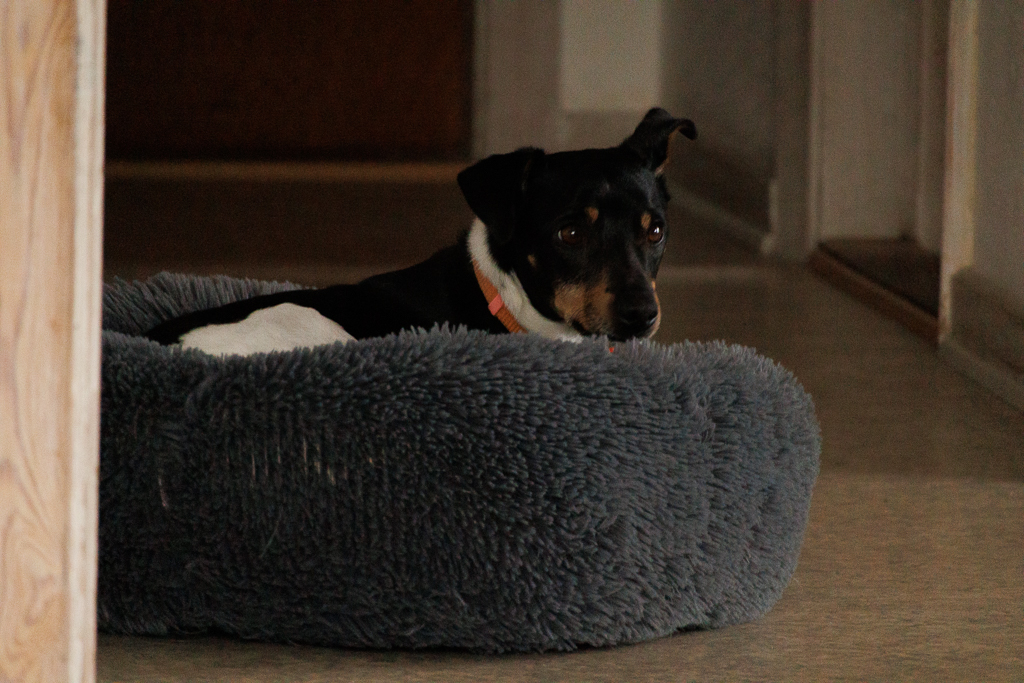Dog: (131, 98, 717, 391)
